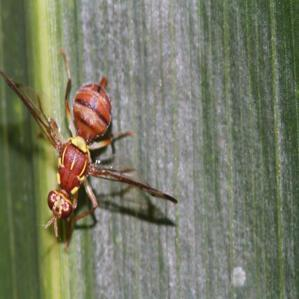melon fly: (0, 44, 184, 262)
